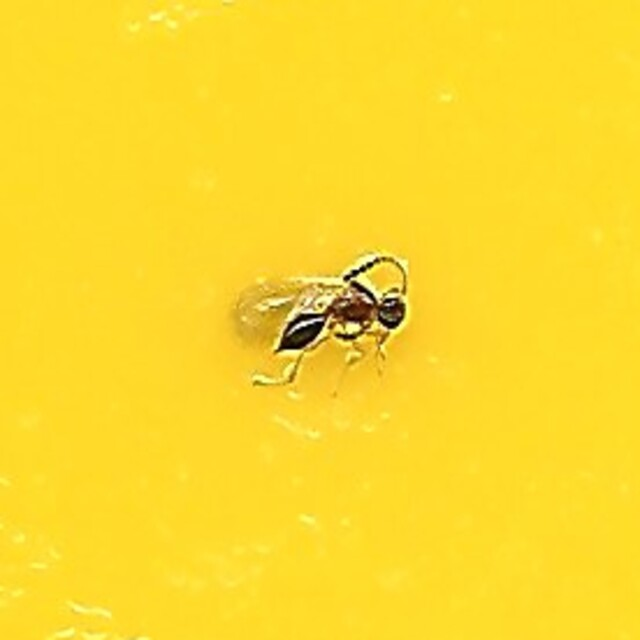Hymenoptera: (232, 257, 408, 383)
